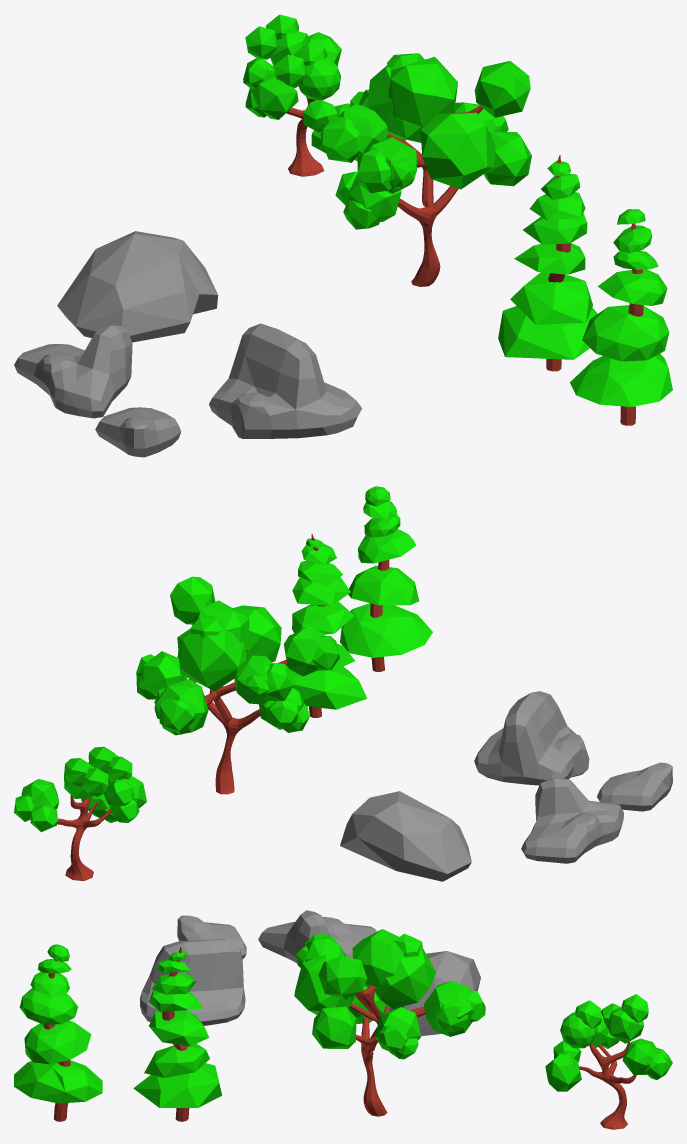
Rendered from Environment2.fbx.
3 renders of one model, top to bottom at view 1: azimuth 30°, elevation 25°; view 2: azimuth 150°, elevation 25°; view 3: azimuth 270°, elevation 25°, orthographic. The views are drawn at different scales.
Parts seen in each view (by area): view 1: Cube.039, Cube.038, Cube.037, Icosphere.076, Icosphere.092, Icosphere.093, Icosphere.071, Icosphere.064, Icosphere.065, Cube.036, Cube.035, Icosphere.079 (+23 smaller); view 2: Cube.039, Cube.038, Cube.037, Icosphere.092, Icosphere.088, Cube.036, Icosphere.064, Icosphere.093, Cube.035, Icosphere.076, Icosphere.079, Cube.033 (+18 smaller); view 3: Cube.038, Icosphere.092, Cube.037, Icosphere.064, Icosphere.093, Icosphere.088, Cube.035, Cube.039, Icosphere.071, Icosphere.076, Icosphere.079, Icosphere.075 (+26 smaller).
Part boxes in pixels (box(x1,y1,x2,y2)): Cube.039: box(57, 231, 218, 342); Cube.038: box(209, 323, 362, 438); Cube.037: box(14, 325, 132, 418); Icosphere.076: box(420, 112, 495, 189); Icosphere.092: box(570, 353, 672, 406); Icosphere.093: box(582, 305, 669, 361); Icosphere.071: box(388, 56, 457, 126); Icosphere.064: box(498, 306, 597, 359); Icosphere.065: box(510, 272, 592, 324); Cube.036: box(95, 407, 181, 457); Cube.035: box(387, 106, 483, 286); Icosphere.079: box(474, 61, 530, 117); Cube.039: box(340, 791, 471, 881); Cube.038: box(474, 691, 589, 785); Cube.037: box(521, 777, 623, 863); Icosphere.092: box(340, 603, 432, 657); Icosphere.088: box(177, 628, 246, 691); Cube.036: box(597, 762, 672, 811); Icosphere.064: box(287, 666, 367, 709); Icosphere.093: box(348, 565, 419, 605); Cube.035: box(189, 621, 287, 794); Icosphere.076: box(233, 605, 281, 662); Icosphere.079: box(170, 576, 215, 624); Cube.033: box(57, 795, 111, 880); Cube.038: box(140, 939, 245, 1025); Icosphere.092: box(14, 1060, 102, 1103); Cube.037: box(258, 910, 376, 962); Icosphere.064: box(133, 1063, 221, 1107); Icosphere.093: box(24, 1020, 91, 1064); Icosphere.088: box(375, 948, 436, 1008); Cube.035: box(350, 985, 425, 1116); Cube.039: box(389, 951, 480, 1036); Icosphere.071: box(352, 929, 404, 988); Icosphere.076: box(294, 954, 355, 1014); Icosphere.079: box(318, 956, 367, 999); Icosphere.075: box(312, 1006, 356, 1048).
Size of the model in its own units: 2423 by 1015 by 3316.
